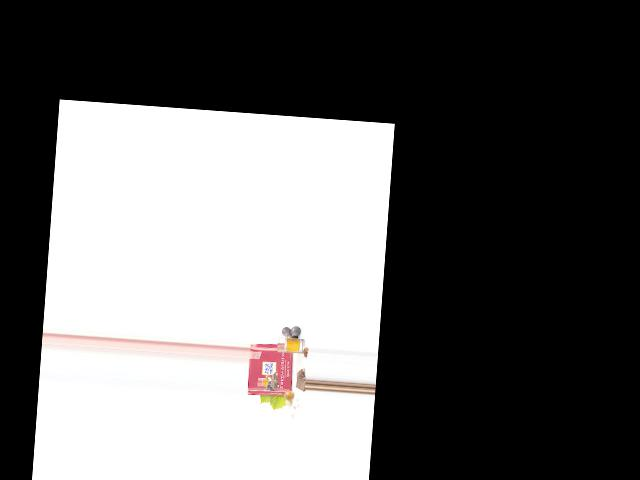chocolate: (247, 343, 294, 399)
